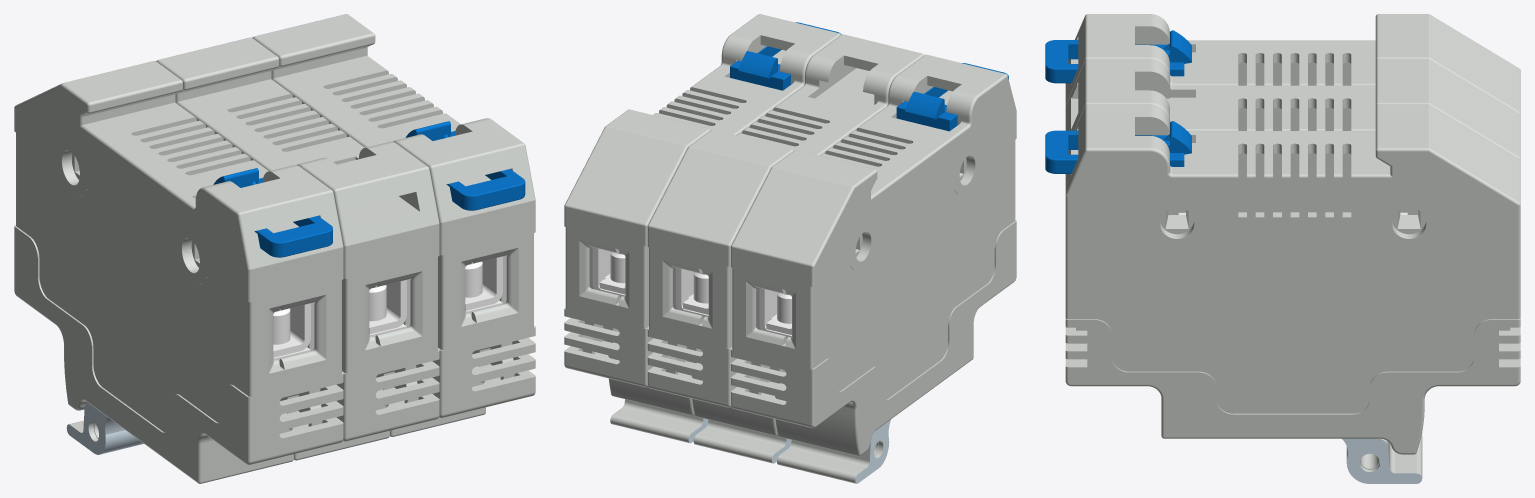
3 renders of one model, left to right at view 1: azimuth 30°, elevation 25°; view 2: azimuth 150°, elevation 25°; view 3: azimuth 270°, elevation 25°, orthographic. The views are drawn at different scales.
Visible parts, largest first — view 1: factory_034, factory_017, factory_032, factory_001, factory_003, factory_019, factory_004, factory_035, factory_033, factory_036, factory_005, factory_020 (+3 smaller); view 2: factory_034, factory_017, factory_032, factory_001, factory_019, factory_003, factory_033, factory_018, factory_002, factory_035, factory_004, factory_011 (+2 smaller); view 3: factory_001, factory_017, factory_032, factory_003, factory_019, factory_034, factory_002, factory_035, factory_004.
Boxes of the visible parts, x1,y1,x2,y2 form: factory_034: [14, 81, 281, 483]; factory_017: [168, 37, 439, 457]; factory_032: [72, 61, 343, 481]; factory_001: [264, 14, 535, 434]; factory_003: [252, 34, 473, 436]; factory_019: [156, 57, 376, 460]; factory_004: [405, 121, 525, 210]; factory_035: [213, 168, 332, 257]; factory_033: [66, 402, 143, 454]; factory_036: [273, 303, 310, 363]; factory_005: [465, 256, 502, 315]; factory_020: [369, 280, 406, 339]; factory_034: [785, 72, 1016, 456]; factory_017: [647, 34, 914, 433]; factory_032: [731, 54, 998, 454]; factory_001: [564, 14, 831, 413]; factory_019: [702, 52, 924, 435]; factory_003: [618, 31, 840, 415]; factory_033: [777, 419, 890, 483]; factory_018: [693, 419, 791, 463]; factory_002: [610, 399, 708, 443]; factory_035: [896, 63, 1008, 131]; factory_004: [730, 22, 841, 90]; factory_011: [592, 247, 625, 298]; factory_001: [1065, 109, 1520, 454]; factory_017: [1065, 63, 1520, 159]; factory_032: [1065, 18, 1520, 114]; factory_003: [1075, 104, 1520, 344]; factory_019: [1065, 59, 1520, 130]; factory_034: [1075, 14, 1520, 85]; factory_002: [1342, 434, 1422, 483]; factory_035: [1045, 30, 1191, 83]; factory_004: [1045, 121, 1191, 173].
Bounding box in the file's own units: 0.0555 × 0.064 × 0.082.
